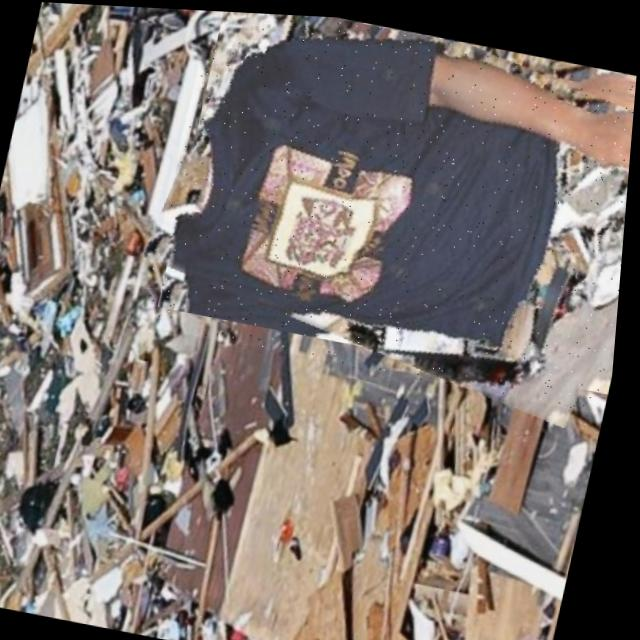Person in Rubble: (142, 7, 640, 407)
